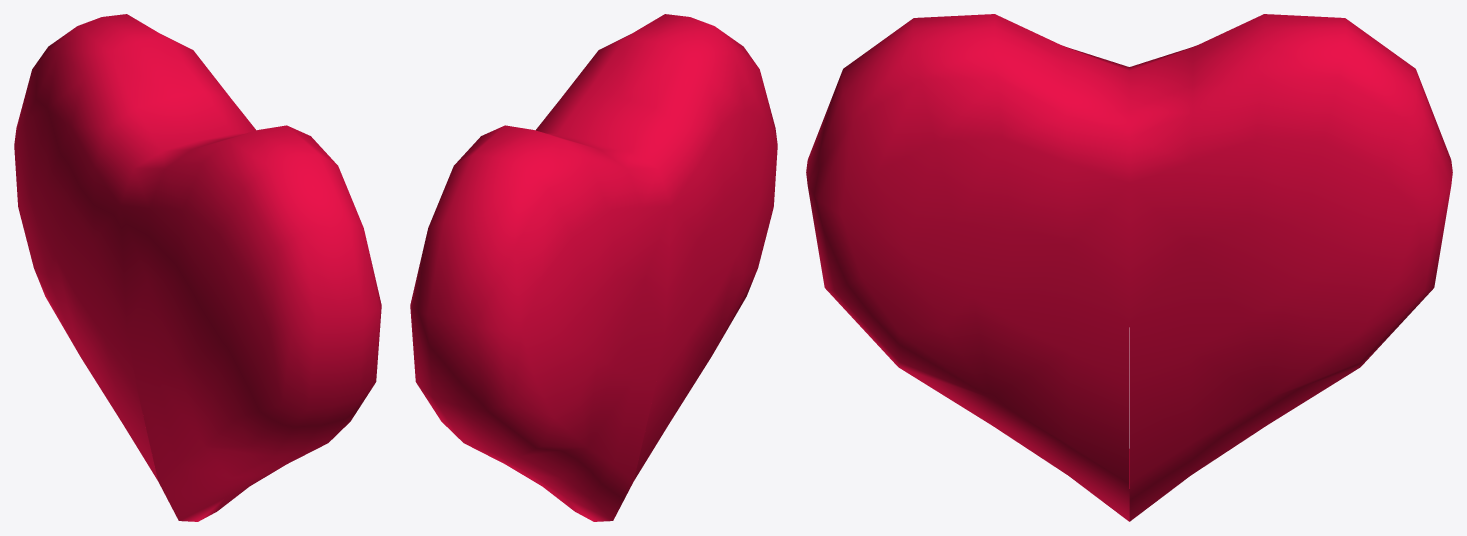
The model's file is Heart_pickup.fbx.
3 renders of one model, left to right at view 1: azimuth 30°, elevation 25°; view 2: azimuth 150°, elevation 25°; view 3: azimuth 270°, elevation 25°, orthographic. The views are drawn at different scales.
Visible parts, largest first — view 1: Heart; view 2: Heart; view 3: Heart.
Part boxes in pixels (left/top/right/bottom): Heart: left=14, top=14, right=381, bottom=521; Heart: left=410, top=14, right=777, bottom=521; Heart: left=806, top=14, right=1452, bottom=521.
Size of the model in its own units: 167 by 446 by 533.
